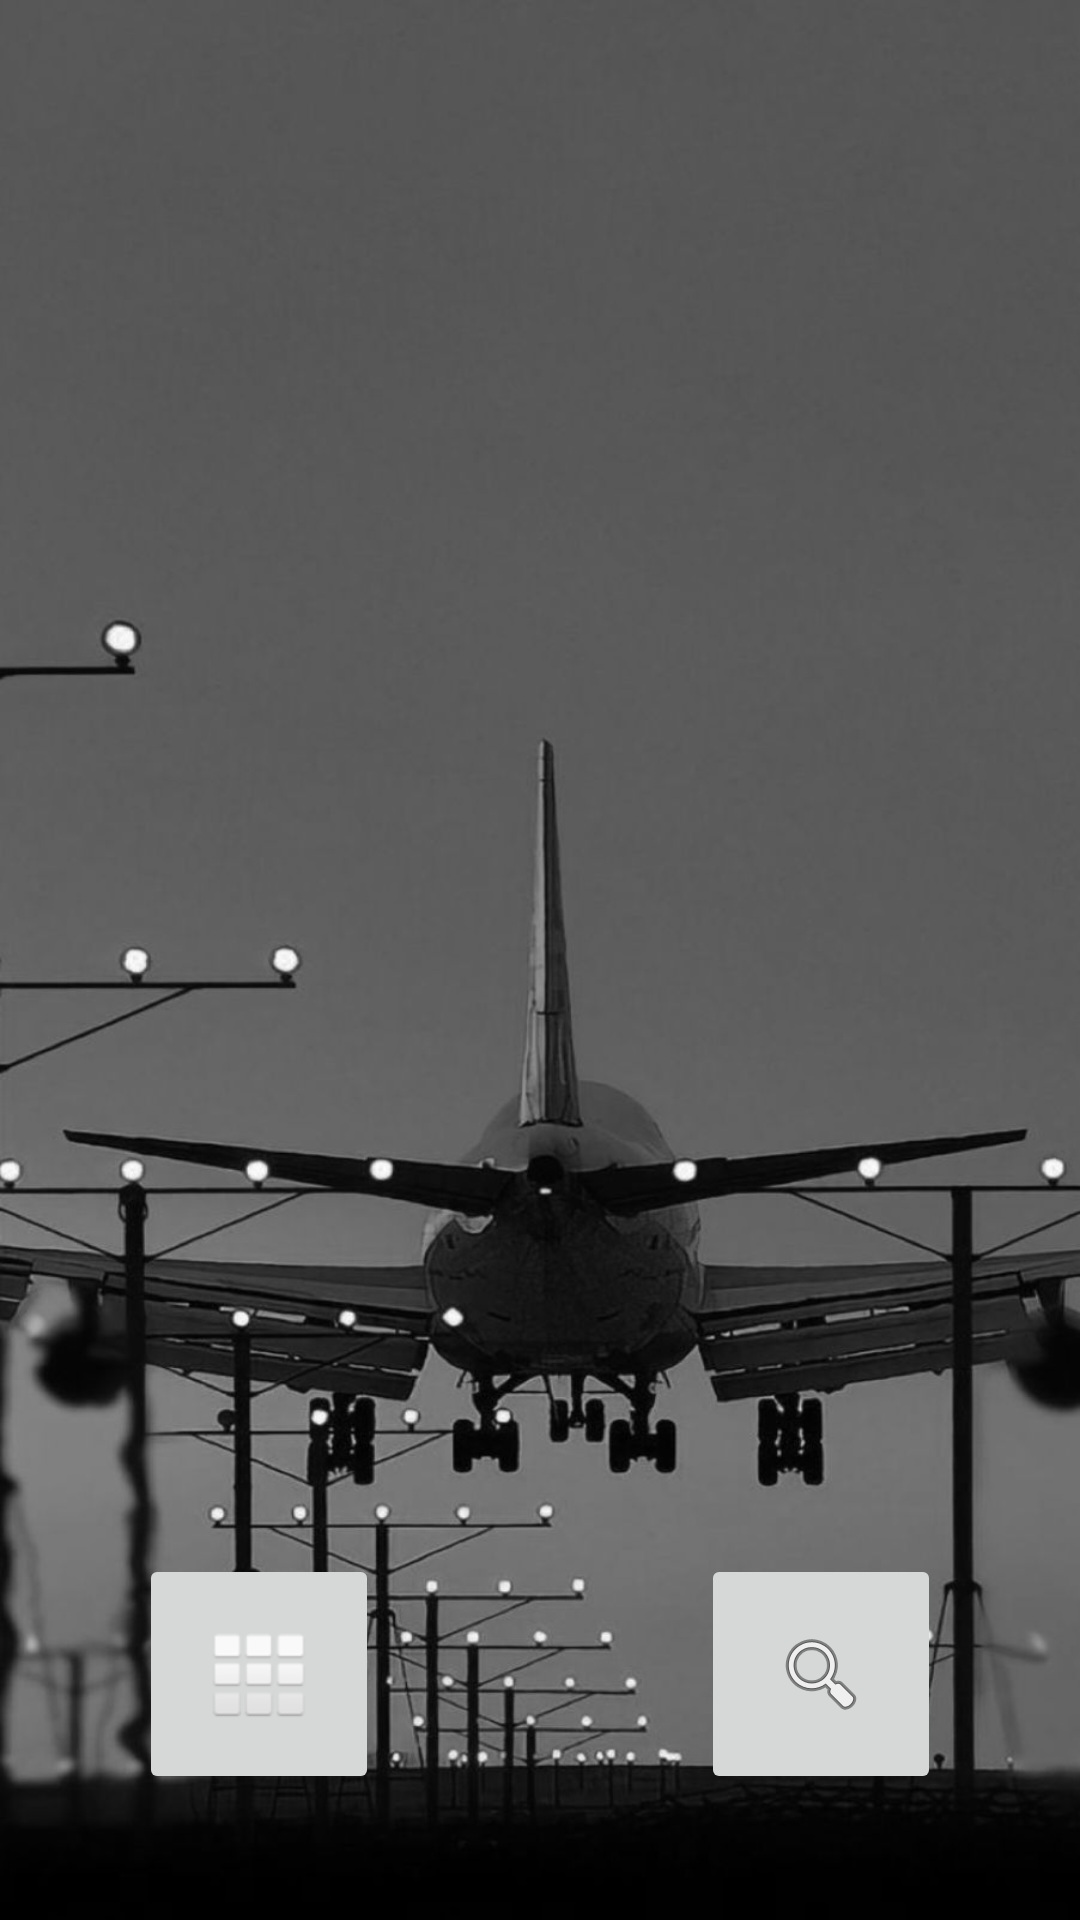

Named icons in this screenshot (1080*1920) and their centers, point (x, y):
dialer: point (258, 1668)
search: point (821, 1683)
